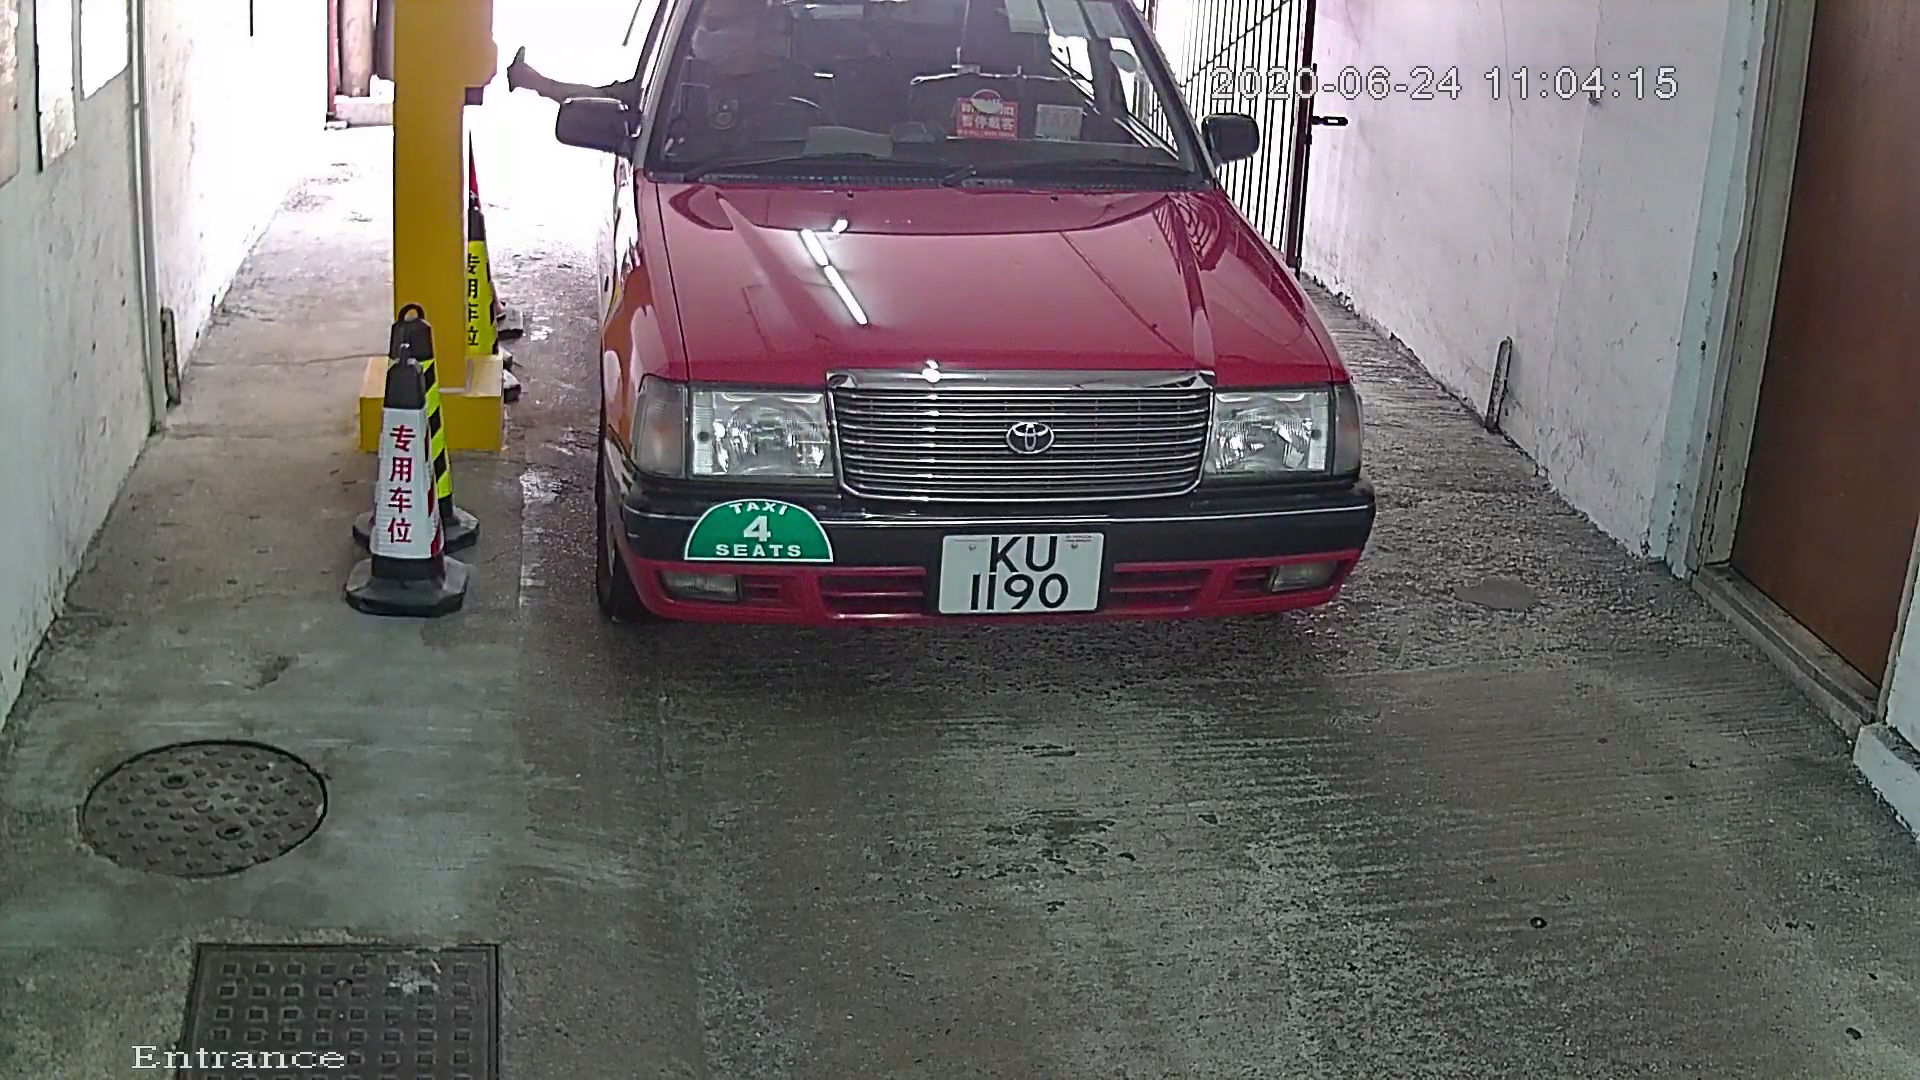Car: (538, 1, 1377, 704)
License Plate: (925, 523, 1111, 631)
